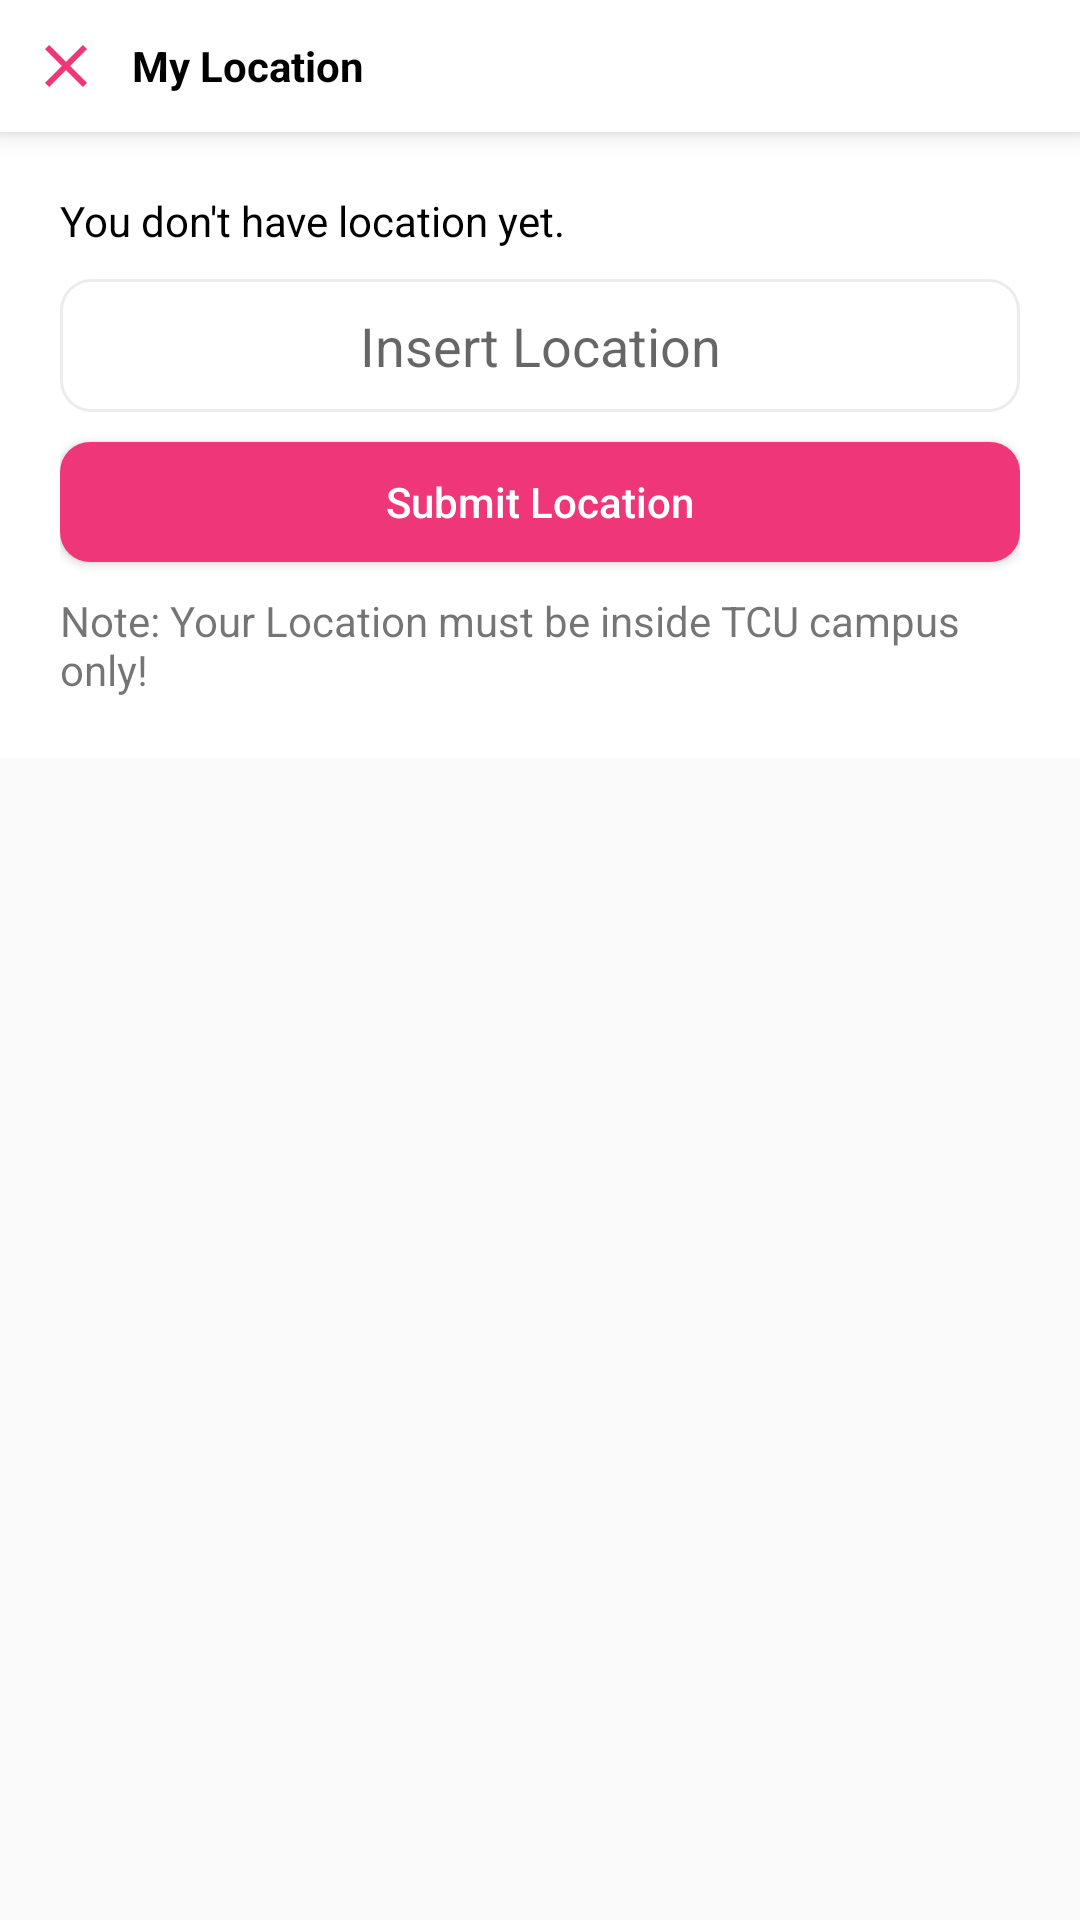

Icons on this 1080px x 1920px Android screen, each with the point to tap as (x=x, y=y):
close: (x=66, y=66)
